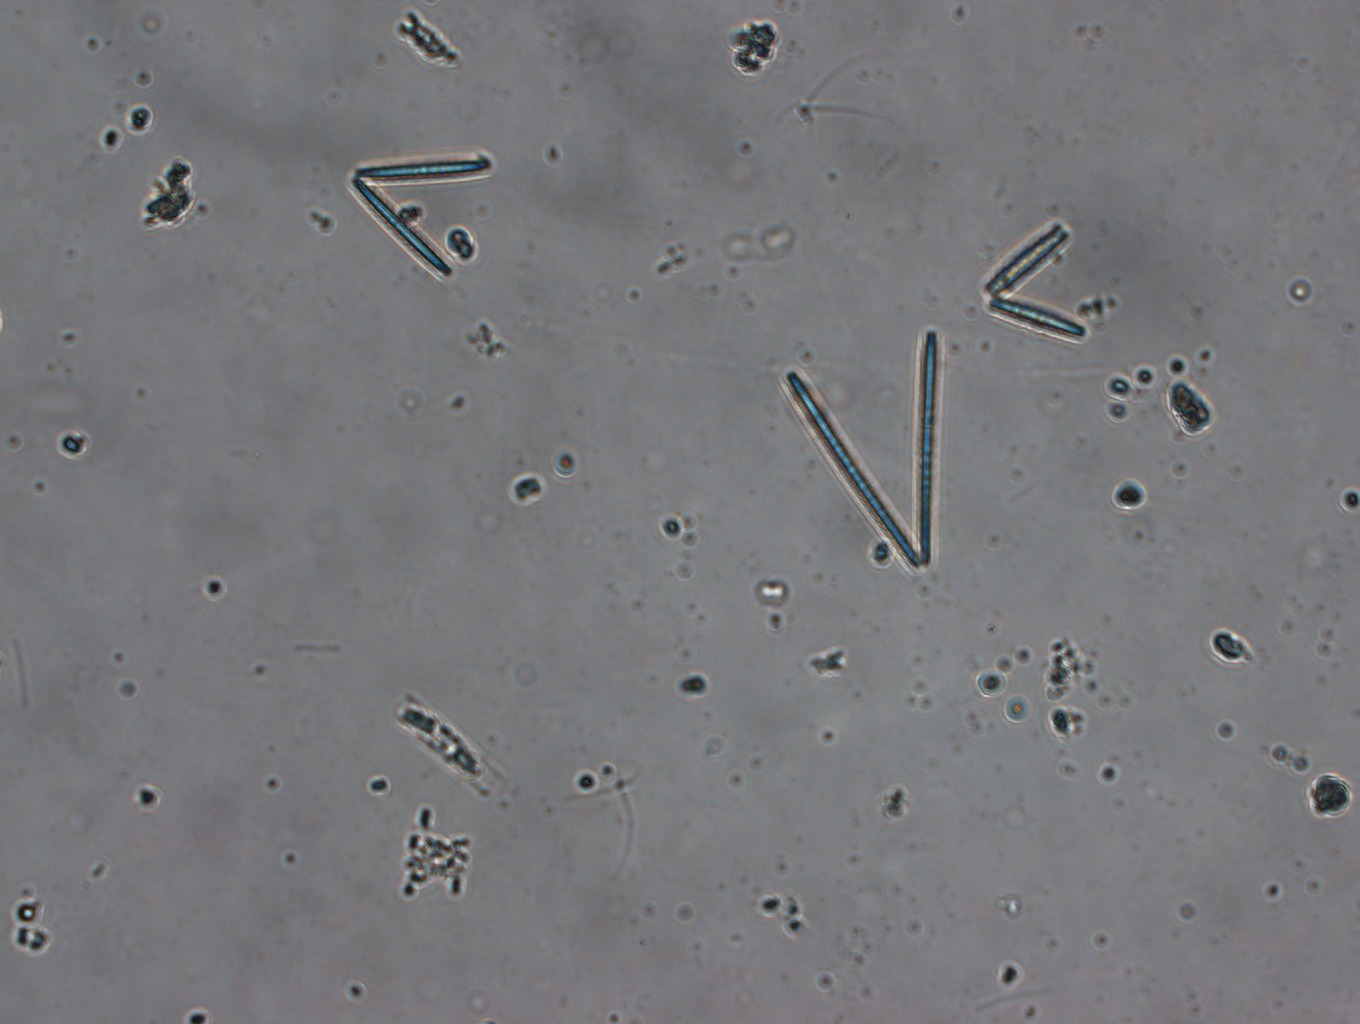thalassionema frauenfeldii: (778, 328, 949, 583), (342, 136, 504, 289), (979, 223, 1096, 349)
